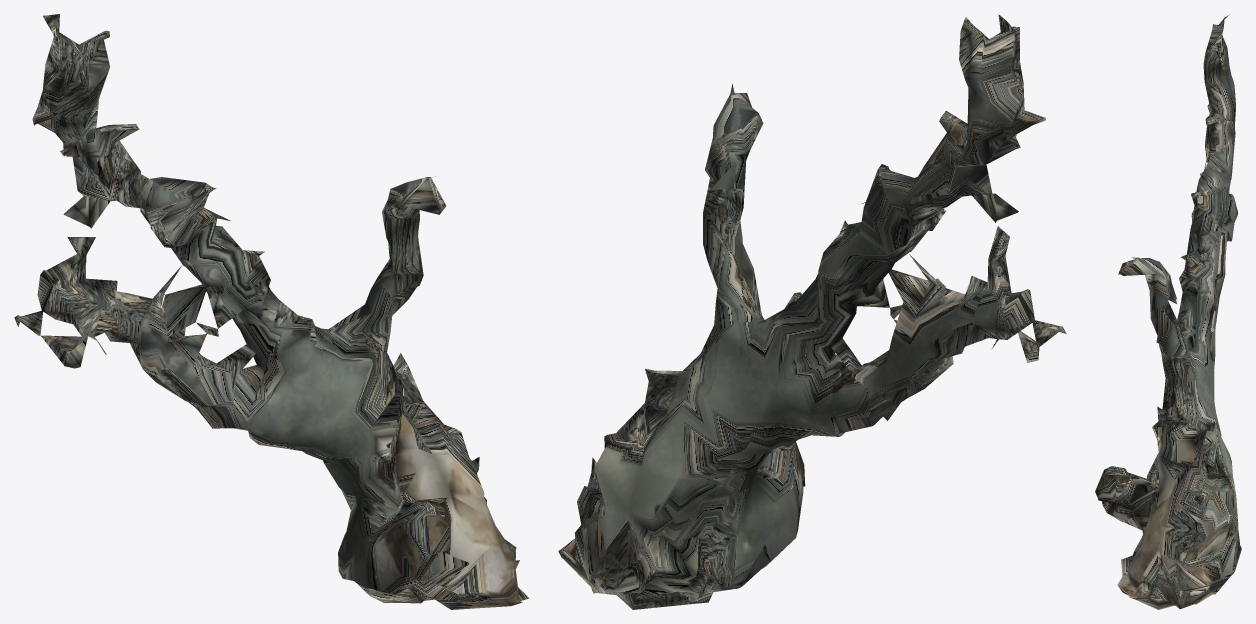
The model's file is hydrozoan-crypthelia-viridis.glb.
3 views of the same model, side by side, from view 1: azimuth 30°, elevation 25°; view 2: azimuth 150°, elevation 25°; view 3: azimuth 270°, elevation 25° (orthographic). The views are drawn at different scales.
Size of the model in its own units: 0.0521 by 0.0677 by 0.0199.
1 material, 1 textured.
